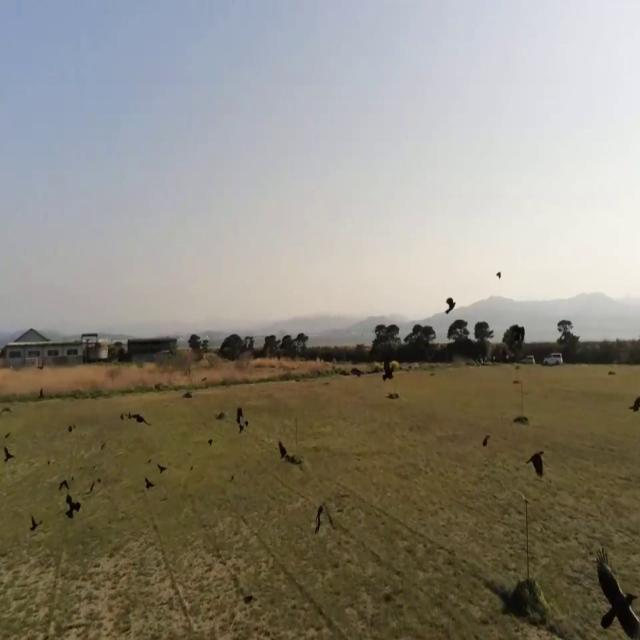bird: (600, 534, 636, 640), (512, 558, 540, 633), (597, 530, 616, 625), (278, 433, 300, 471), (529, 437, 544, 483), (314, 492, 326, 539), (66, 489, 82, 524), (445, 288, 456, 318), (480, 423, 490, 453), (156, 455, 167, 479), (144, 471, 154, 495), (496, 266, 502, 284)
